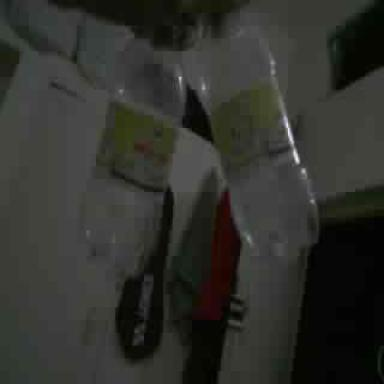bottle: (192, 10, 317, 254), (85, 38, 185, 272)
